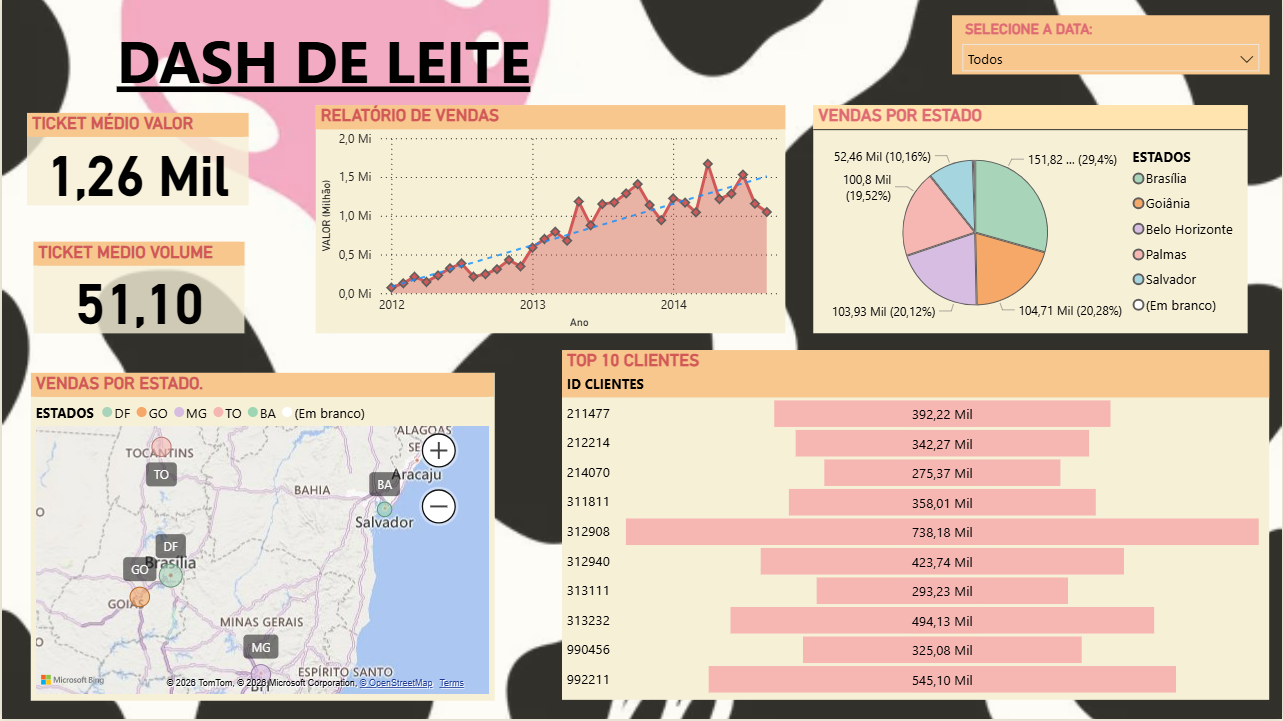

This screenshot's page, from the dashboard's own definition file:
{"tool":"powerbi","page":{"name":"DASH DE LEITE UHT","canvas":[1280,720],"ordinal":0},"visuals":[{"type":"map","title":"VENDAS POR ESTADO.","fields":{"Size":["Sum(BDF.PVENDA)"],"Series":["BDF.ESTADO"],"Category":["BDF.ESTADO"]},"box":[29,374,463.3,326.9],"z":0},{"type":"pieChart","title":"VENDAS POR ESTADO","fields":{"Y":["Sum(BDF.PVENDA)"],"Category":["BDF.CIDADE"]},"box":[810.7,106.2,434.3,228],"z":1000},{"type":"slicer","fields":{"Values":["BDF.DATA.Variation.Hierarquia de datas.Ano","BDF.DATA.Variation.Hierarquia de datas.Mês"]},"box":[949.5,15.7,317.3,59.1],"z":2000},{"type":"lineChart","title":"RELATÓRIO DE VENDAS","fields":{"Category":["BDF.DATA.Variation.Hierarquia de datas.Ano","BDF.DATA.Variation.Hierarquia de datas.Mês"],"Y":["Sum(BDF.VLTOTALPED)"]},"box":[313.7,106.2,469.3,228],"z":3000},{"type":"card","title":"TICKET MÉDIO VALOR","fields":{"Values":["BDF.TicketMedioValor"]},"box":[25.3,113.4,222,92.9],"z":4000},{"type":"card","title":"TICKET MEDIO VOLUME","fields":{"Values":["BDF.TicketMedioVolume","select"]},"box":[31.4,242.5,211.1,91.7],"z":5000},{"type":"funnel","title":"TOP 10 CLIENTES","fields":{"Category":["BDF.CODCLI","BDF.DATA.Variation.Hierarquia de datas.Ano","BDF.DATA.Variation.Hierarquia de datas.Mês"],"Y":["Sum(BDF.VLTOTALPED)"]},"box":[559.8,351.1,707,349.9],"z":6000},{"type":"textbox","box":[29,15.7,696.1,106.2],"z":7000}]}

Visuals, with their boxes in screenshot pixels (x1, y1, x2, y2), scaled from the page's 1280x720 canvas onto the 1283x721 screenshot:
"VENDAS POR ESTADO." map: bbox(29, 375, 493, 702)
"VENDAS POR ESTADO" pieChart: bbox(813, 106, 1248, 335)
slicer - BDF.DATA.Variation.Hierarquia de datas.Ano x BDF.DATA.Variation.Hierarquia de datas.Mês: bbox(952, 16, 1270, 75)
"RELATÓRIO DE VENDAS" lineChart: bbox(314, 106, 785, 335)
"TICKET MÉDIO VALOR" card: bbox(25, 114, 248, 207)
"TICKET MEDIO VOLUME" card: bbox(31, 243, 243, 335)
"TOP 10 CLIENTES" funnel: bbox(561, 352, 1270, 702)
textbox: bbox(29, 16, 727, 122)
